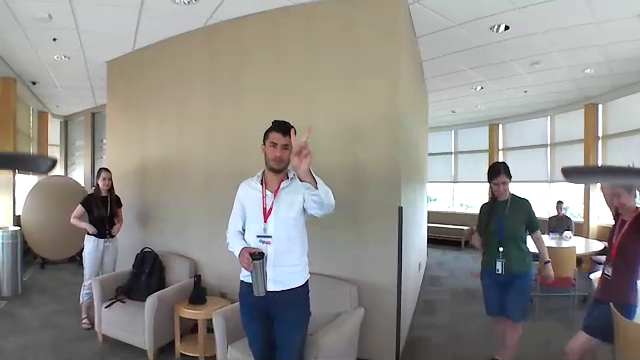peace: (285, 120, 319, 176)
